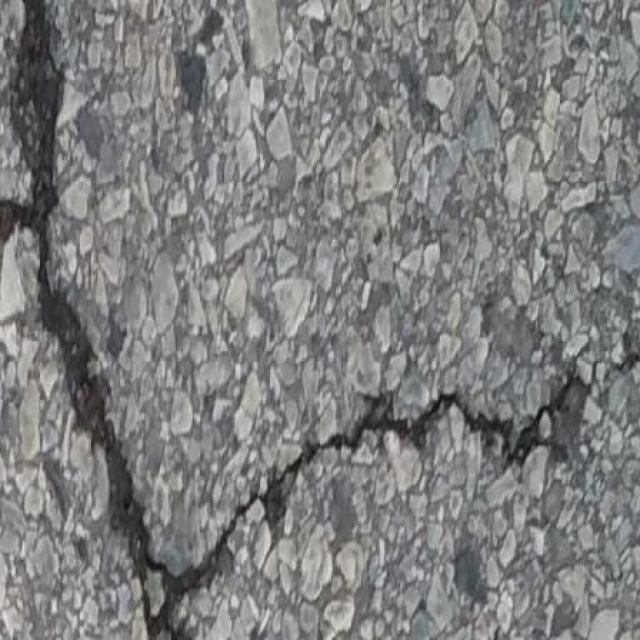Crack: (0, 2, 348, 639), (351, 396, 570, 456)
